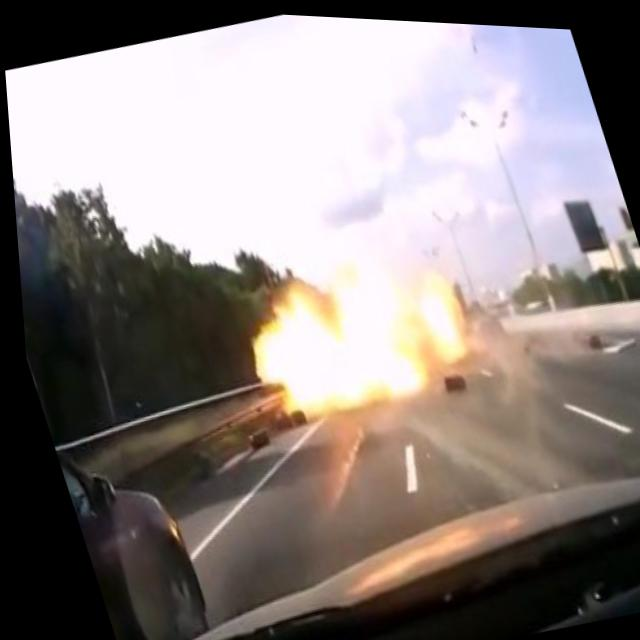fire: (214, 219, 492, 440)
